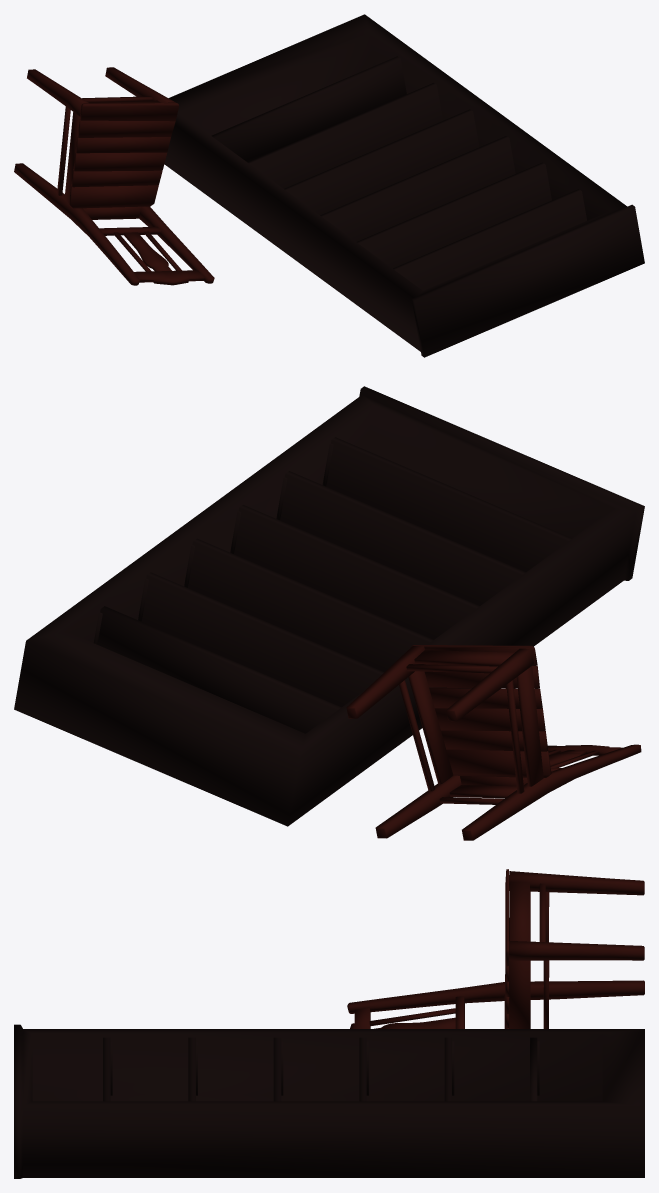
The model's file is scene_0002_diffuse.obj.
The picture shows the model from 3 angles, top to bottom: view 1: azimuth 30°, elevation 25°; view 2: azimuth 150°, elevation 25°; view 3: azimuth 270°, elevation 25°; orthographic projection. The views are drawn at different scales.
Parts seen in each view (by area): view 1: diffuse_shelf_01, diffuse_chair_02; view 2: diffuse_shelf_01, diffuse_chair_02; view 3: diffuse_shelf_01, diffuse_chair_02.
Boxes of the visible parts, x1=… form: diffuse_shelf_01: x1=164, y1=14, x2=644, y2=357; diffuse_chair_02: x1=14, y1=67, x2=214, y2=285; diffuse_shelf_01: x1=14, y1=386, x2=644, y2=826; diffuse_chair_02: x1=346, y1=645, x2=641, y2=840; diffuse_shelf_01: x1=14, y1=1024, x2=644, y2=1178; diffuse_chair_02: x1=347, y1=869, x2=644, y2=1028.
Bounding box in the file's own units: 151 × 56.43 × 189.
